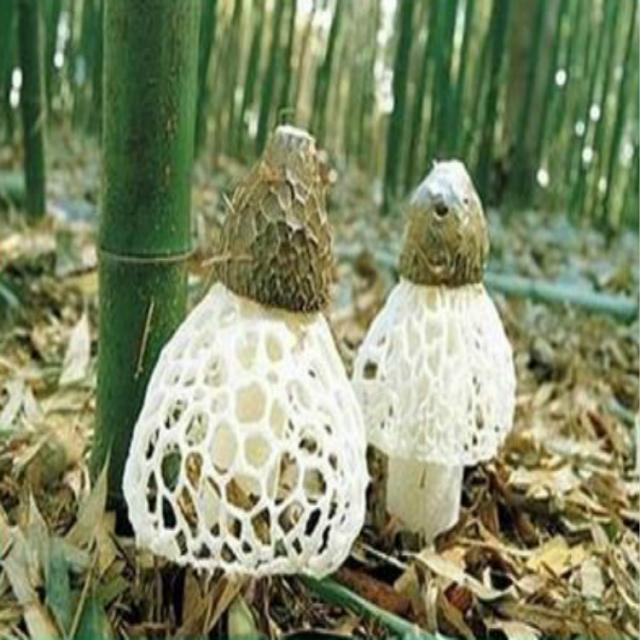Dictyophora indusiate: (121, 124, 371, 580), (353, 164, 519, 529)
